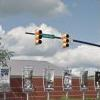Traffic light: (24, 25, 81, 60)
